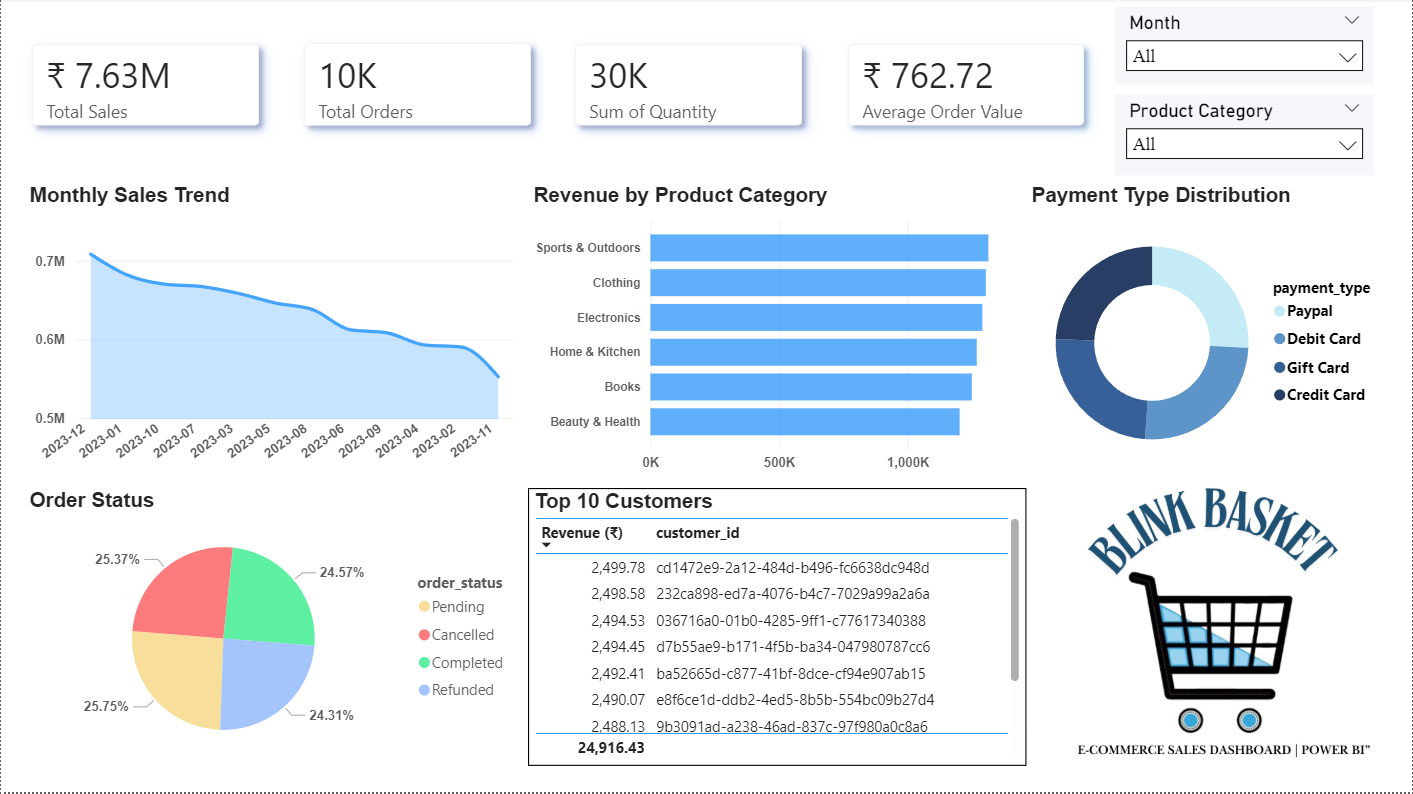

The dashboard page shown, as its layout file describes it:
{"tool":"powerbi","page":{"name":"Page 2","canvas":[1280,720],"ordinal":0},"visuals":[{"type":"kpi","title":"Total Sales","fields":{"Indicator":["DateTable.Total Sales"],"Goal":["DateTable.MoM % Change"],"TrendLine":["DateTable.Year-Month"]},"box":[8.2,29.9,237.6,106.1],"z":0},{"type":"slicer","fields":{"Values":["DateTable.Year-Month"]},"box":[1010,7.5,235,71.2],"z":1000},{"type":"kpi","title":"Average Order Value","fields":{"Indicator":["DateTable.Average Order Value"],"TrendLine":["DateTable.Year-Month"],"Goal":["DateTable.MoM % Change"]},"box":[512.3,29.9,243,106.1],"z":2000},{"type":"kpi","title":"Total Orders","fields":{"Indicator":["DateTable.Total Orders"],"TrendLine":["DateTable.Year-Month"],"Goal":["DateTable.MoM % Change"]},"box":[261.2,29.9,237.6,106.1],"z":3000},{"type":"cardVisual","fields":{"Data":["Sum(ecommerce.Quantity)"]},"box":[747.2,13.6,263,130.6],"z":4000},{"type":"lineChart","title":"Monthly Sales Trend","fields":{"Y":["DateTable.Total Sales"],"Category":["DateTable.Year-Month"]},"box":[21.2,167.3,448.5,269.1],"z":5000},{"type":"clusteredBarChart","title":"Revenue by Product Category","fields":{"Category":["ecommerce.product_category"],"Y":["DateTable.Total Sales"]},"box":[477.7,167.3,462.6,269.1],"z":6000},{"type":"slicer","fields":{"Values":["ecommerce.product_category"]},"box":[1010,87.5,235,73.8],"z":7000},{"type":"donutChart","title":"Payment Type Distribution","fields":{"Category":["ecommerce.payment_type"],"Y":["DateTable.Payment Sales"]},"box":[929.3,167.3,339.7,269.1],"z":8000},{"type":"pieChart","title":"Order Status","fields":{"Category":["ecommerce.order_status"],"Y":["DateTable.Total Orders"]},"box":[21.2,444.5,456.6,252],"z":9000},{"type":"tableEx","title":"Top 10 Customers","fields":{"Values":["DateTable.Customer Sales","ecommerce.customer_id"]},"box":[477.7,444.5,451.5,252],"z":10000},{"type":"image","box":[940.7,428.2,339.3,268.5],"z":11000},{"type":"image","box":[907.7,48.1,65.3,60.8],"z":11001}]}

Visuals, with their boxes in screenshot pixels (x1, y1, x2, y2), scaled from the page's 1280x720 canvas onto the 1413x794 screenshot:
"Total Sales" kpi: box=[9, 33, 271, 150]
slicer - DateTable.Year-Month: box=[1115, 8, 1374, 87]
"Average Order Value" kpi: box=[566, 33, 834, 150]
"Total Orders" kpi: box=[288, 33, 551, 150]
cardVisual - Sum(ecommerce.Quantity): box=[825, 15, 1115, 159]
"Monthly Sales Trend" lineChart: box=[23, 184, 519, 481]
"Revenue by Product Category" clusteredBarChart: box=[527, 184, 1038, 481]
slicer - ecommerce.product_category: box=[1115, 96, 1374, 178]
"Payment Type Distribution" donutChart: box=[1026, 184, 1401, 481]
"Order Status" pieChart: box=[23, 490, 527, 768]
"Top 10 Customers" tableEx: box=[527, 490, 1026, 768]
image: box=[1038, 472, 1412, 768]
image: box=[1002, 53, 1074, 120]
